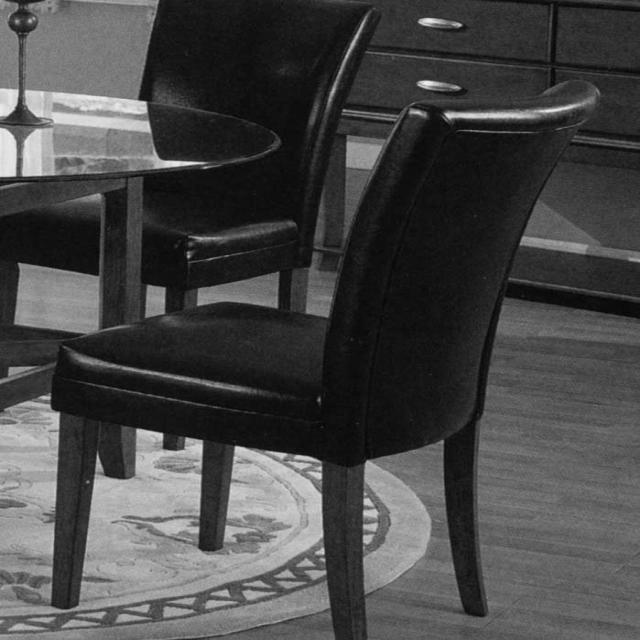chair: (45, 76, 608, 640), (3, 0, 375, 451)
